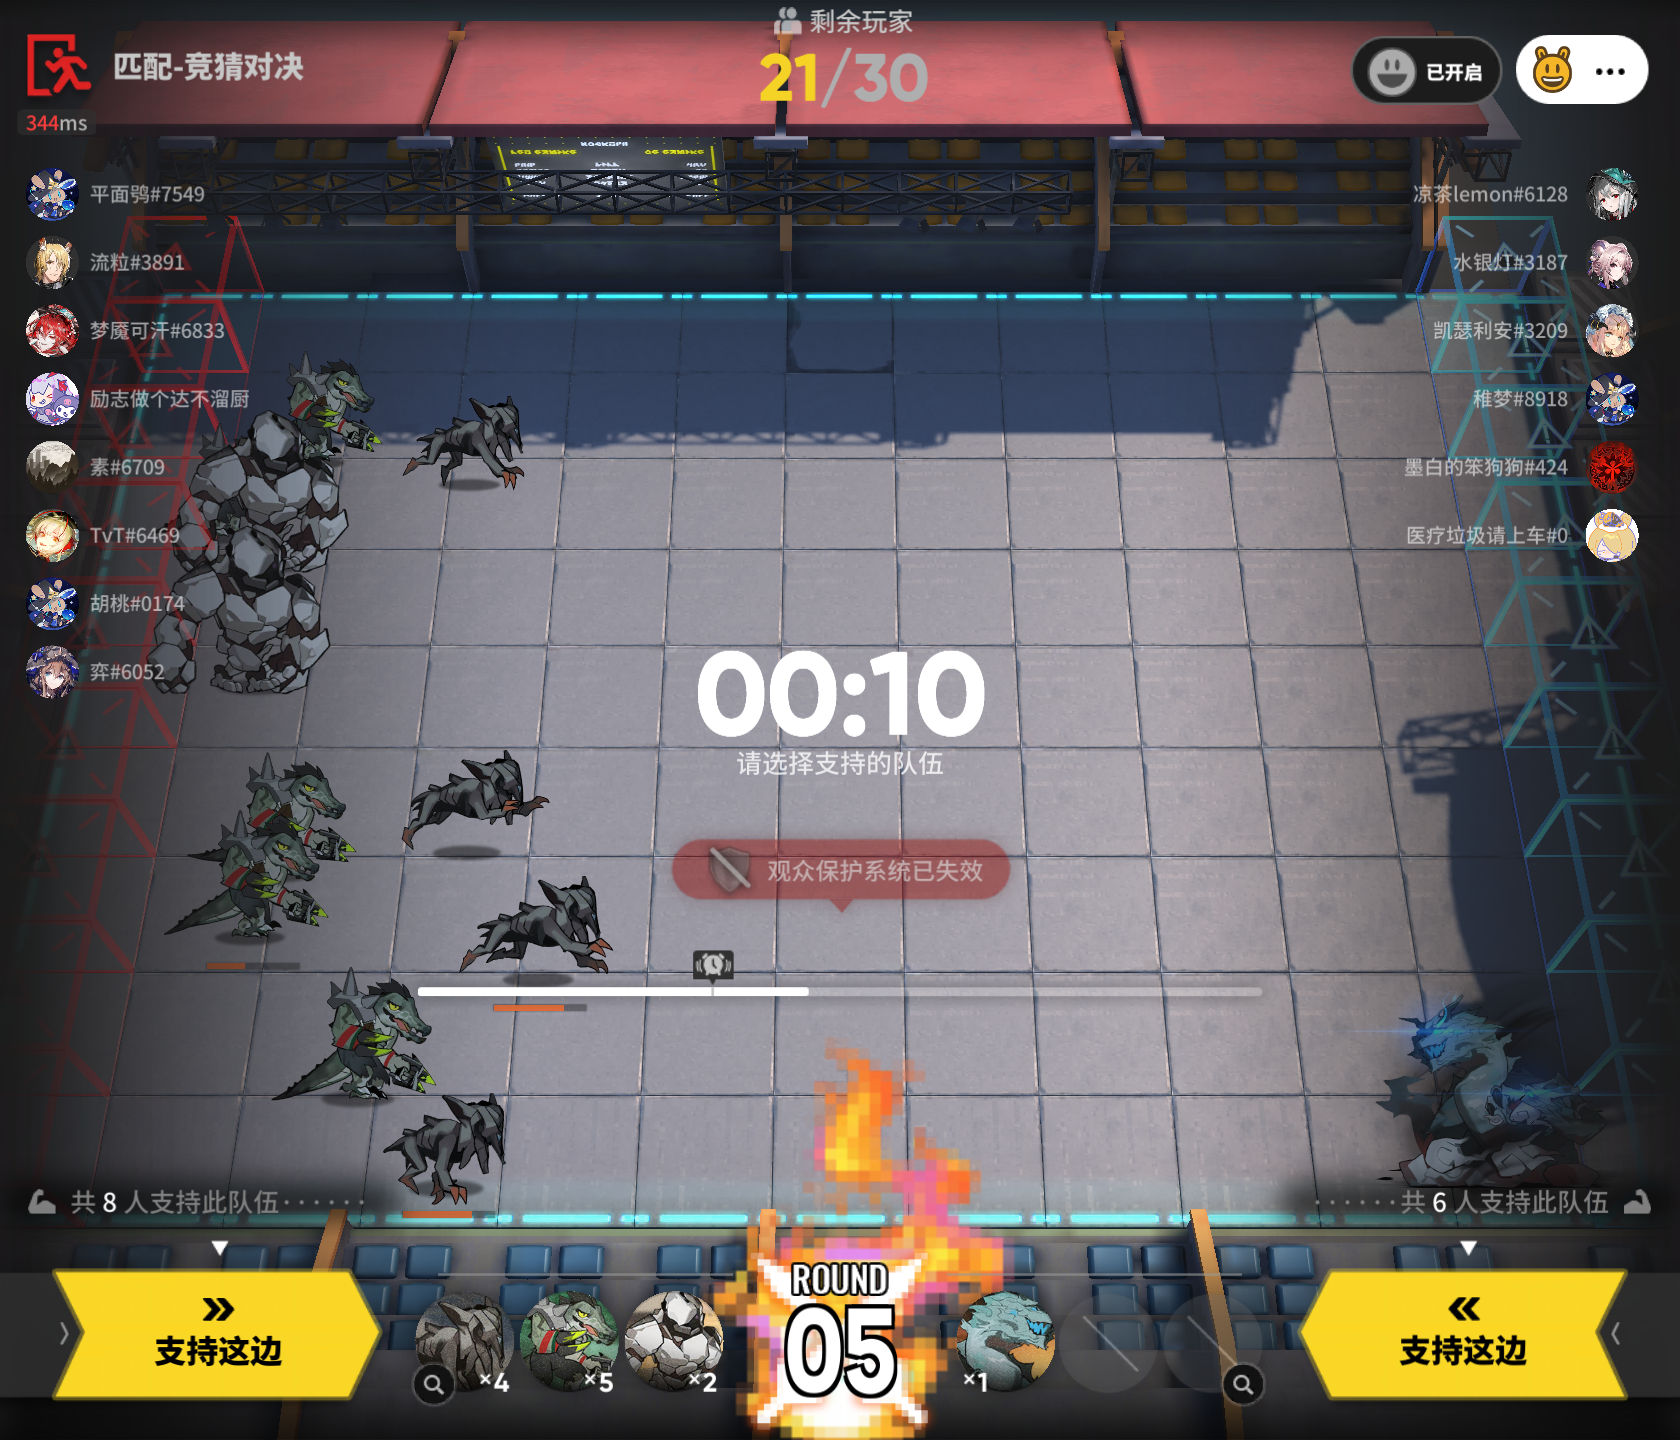“自在”: (1379, 979, 1626, 1209), (941, 1279, 1063, 1394)
砸人的石头: (149, 514, 360, 717), (179, 399, 361, 571), (621, 1281, 727, 1394)
窃笑鳄鱼: (269, 966, 441, 1107), (186, 811, 329, 949), (230, 751, 367, 881), (266, 339, 391, 479), (513, 1279, 623, 1394)
食腐野兽: (389, 1081, 530, 1224), (451, 870, 620, 984), (401, 746, 560, 841), (401, 391, 531, 499), (413, 1281, 516, 1401)
